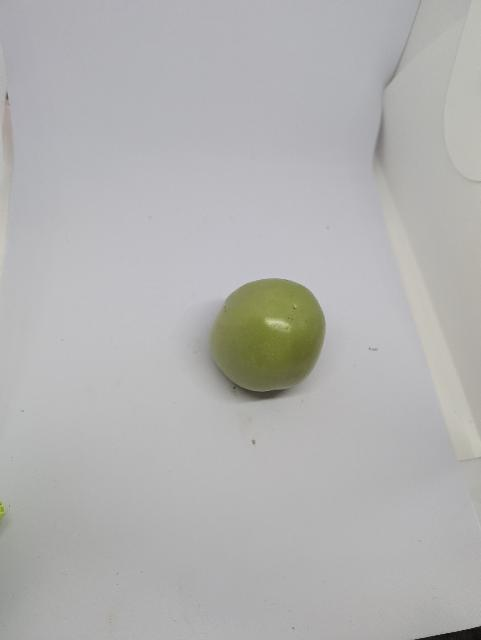green: (202, 264, 344, 414)
